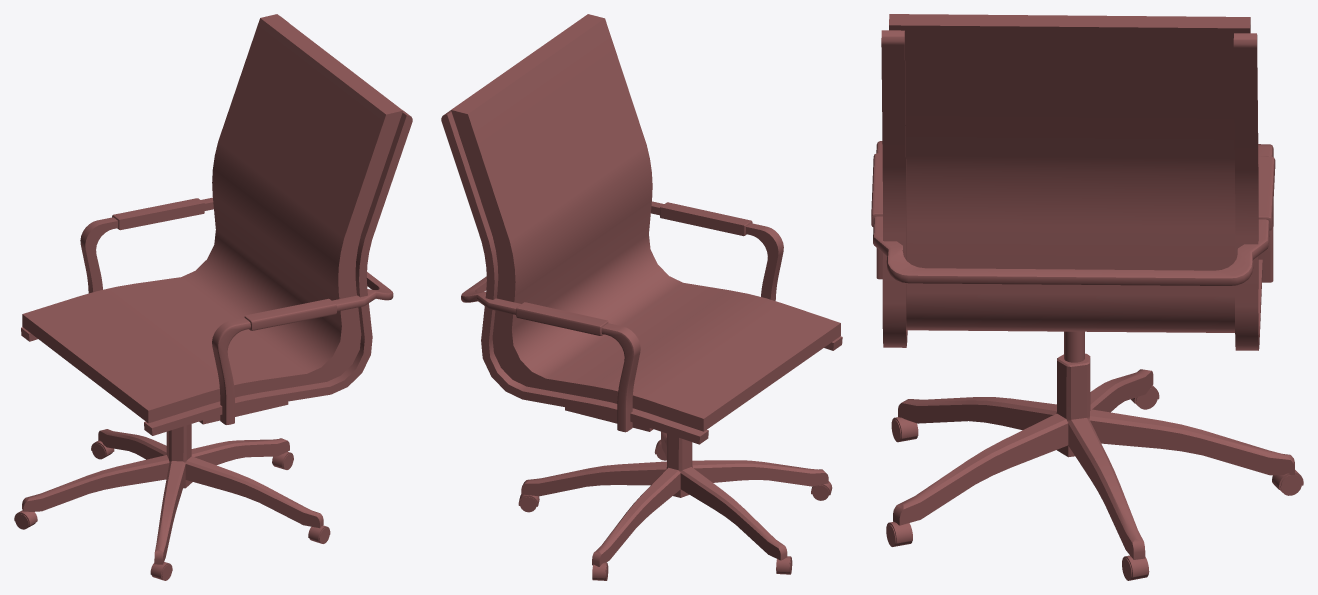
The model's file is Chair.fbx.
3 views of the same model, side by side, from view 1: azimuth 30°, elevation 25°; view 2: azimuth 150°, elevation 25°; view 3: azimuth 270°, elevation 25° (orthographic). The views are drawn at different scales.
Visible parts, largest first — view 1: SM_Chair; view 2: SM_Chair; view 3: SM_Chair.
Boxes of the visible parts, x1,y1,x2,y2 form: SM_Chair: (14, 14, 412, 580); SM_Chair: (441, 14, 842, 580); SM_Chair: (871, 14, 1303, 580).
Bounding box in the file's own units: 166 × 216 × 148.
